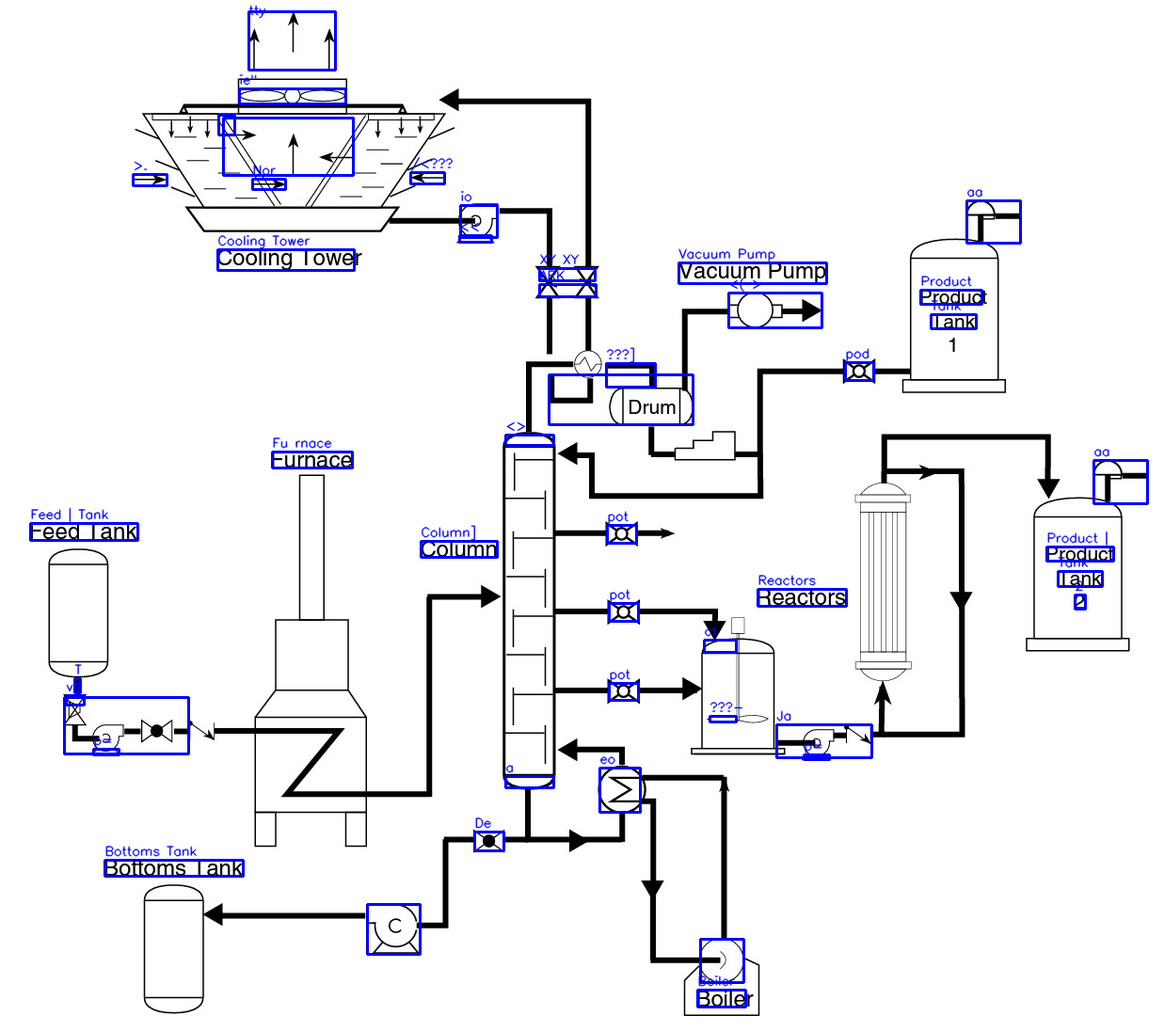Bomba: (364, 899, 421, 957), (722, 289, 789, 332), (454, 200, 504, 248), (89, 722, 127, 759), (798, 727, 837, 763)
Caldeira: (681, 936, 762, 1018)
Forno: (248, 472, 373, 850)
Misturador: (704, 614, 771, 726)
Outro: (136, 71, 449, 237), (500, 430, 559, 792), (607, 384, 696, 430), (669, 429, 739, 465)
Reator: (852, 478, 914, 684)
Tanque: (898, 236, 1010, 397), (1022, 496, 1132, 654), (688, 636, 788, 758), (46, 545, 112, 681), (143, 881, 205, 1016)
TrocadordeCalor: (597, 763, 646, 817), (572, 349, 604, 381)
Válvula: (569, 261, 603, 301), (601, 517, 642, 549), (604, 596, 644, 628), (533, 262, 564, 303), (840, 356, 880, 387), (606, 674, 643, 706), (60, 690, 89, 729), (138, 718, 176, 745), (471, 828, 507, 855), (185, 717, 217, 742), (842, 722, 874, 746)
